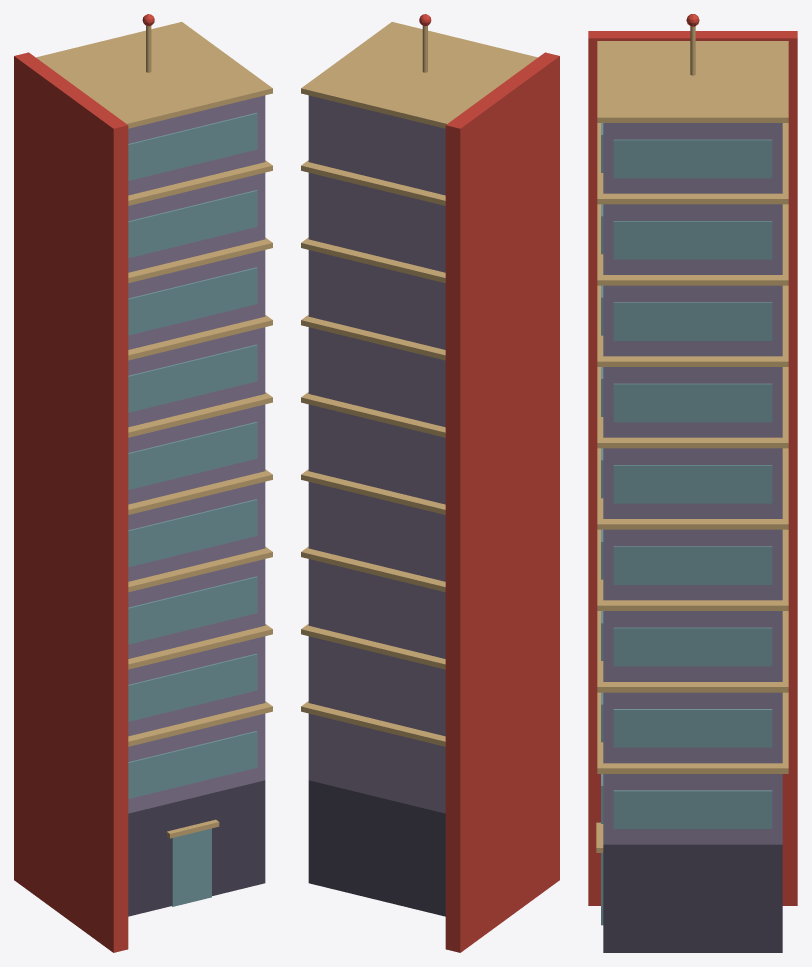
The picture shows the model from 3 angles, left to right: view 1: azimuth 30°, elevation 25°; view 2: azimuth 150°, elevation 25°; view 3: azimuth 270°, elevation 25°; orthographic projection. The views are drawn at different scales.
Visible parts, largest first — view 1: RC-005 Red blade broadcast tower batched; view 2: RC-005 Red blade broadcast tower batched; view 3: RC-005 Red blade broadcast tower batched.
Part boxes in pixels (<box>): RC-005 Red blade broadcast tower batched: <box>14,14,272,952</box>; RC-005 Red blade broadcast tower batched: <box>301,14,559,952</box>; RC-005 Red blade broadcast tower batched: <box>588,14,797,952</box>.
Size of the model in its own units: 6.65 by 34.22 by 7.
